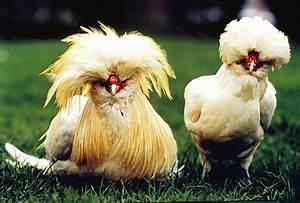hen: (3, 20, 181, 184), (182, 14, 291, 184)
